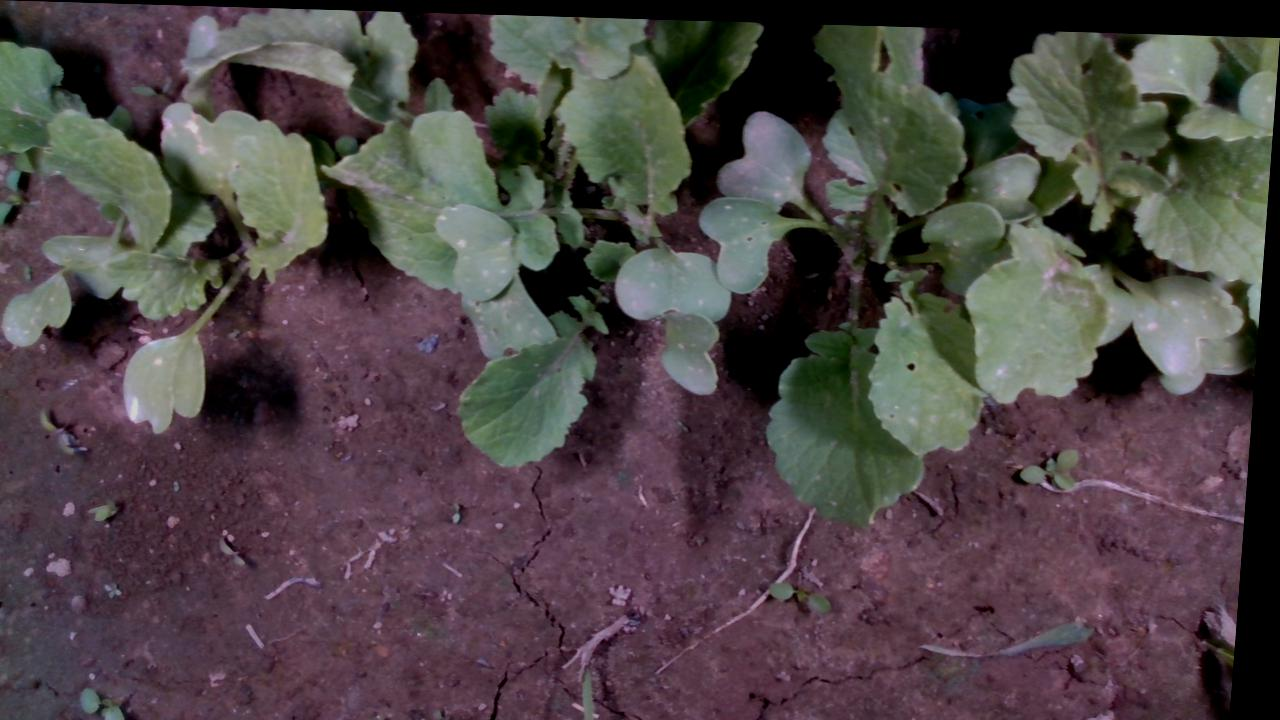weed: (1016, 438, 1091, 486)
